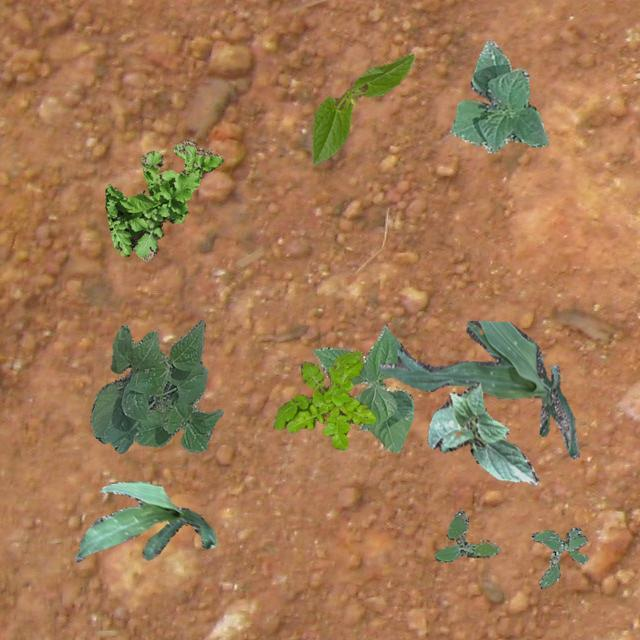crop: (376, 320, 578, 458), (90, 318, 222, 452), (312, 326, 412, 452), (74, 479, 214, 562), (427, 381, 538, 484), (312, 53, 414, 164), (449, 39, 548, 152)
weed: (105, 138, 222, 260), (272, 350, 374, 450), (530, 526, 586, 588), (434, 508, 498, 562)
